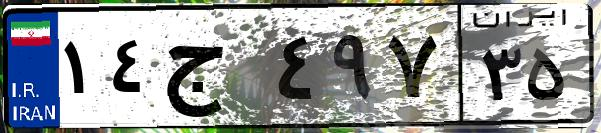1: (57, 26, 110, 100)
3: (475, 38, 525, 113)
4: (270, 28, 330, 110), (110, 28, 158, 98)
5: (525, 38, 570, 115)
7: (385, 28, 445, 110)
9: (330, 28, 385, 110)
ج: (158, 20, 270, 120)
